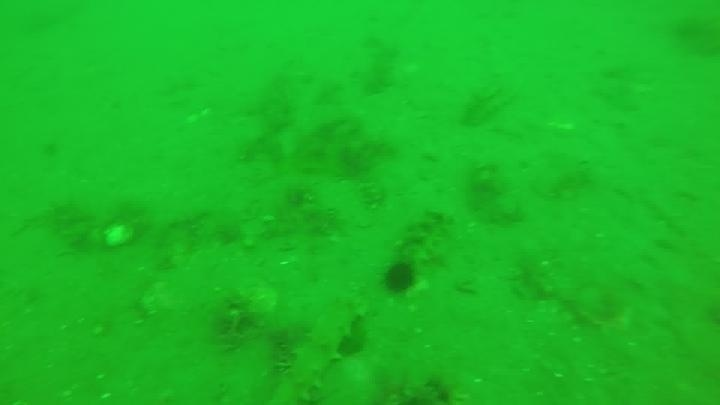echinus: (380, 259, 419, 297)
holothurian: (271, 298, 365, 404), (394, 207, 454, 267)
scallop: (227, 278, 280, 326)
